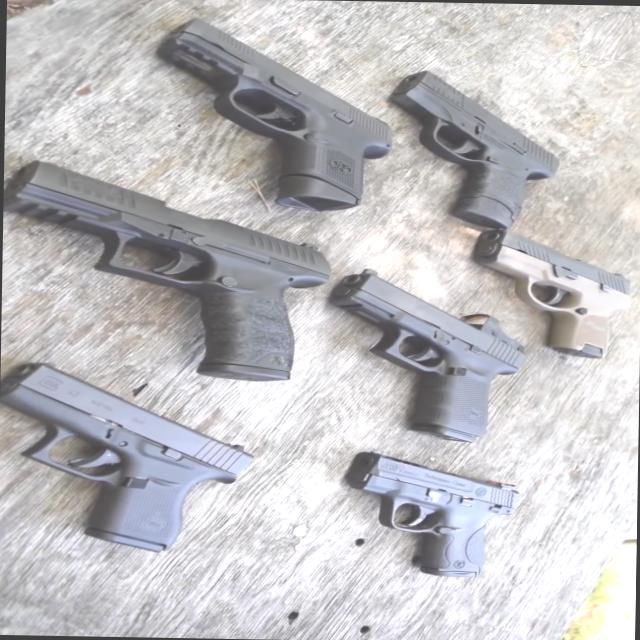handgun: (34, 155, 338, 409), (0, 351, 290, 560), (302, 253, 534, 451), (162, 8, 374, 210), (370, 52, 566, 235), (344, 438, 536, 600), (460, 221, 639, 363)
